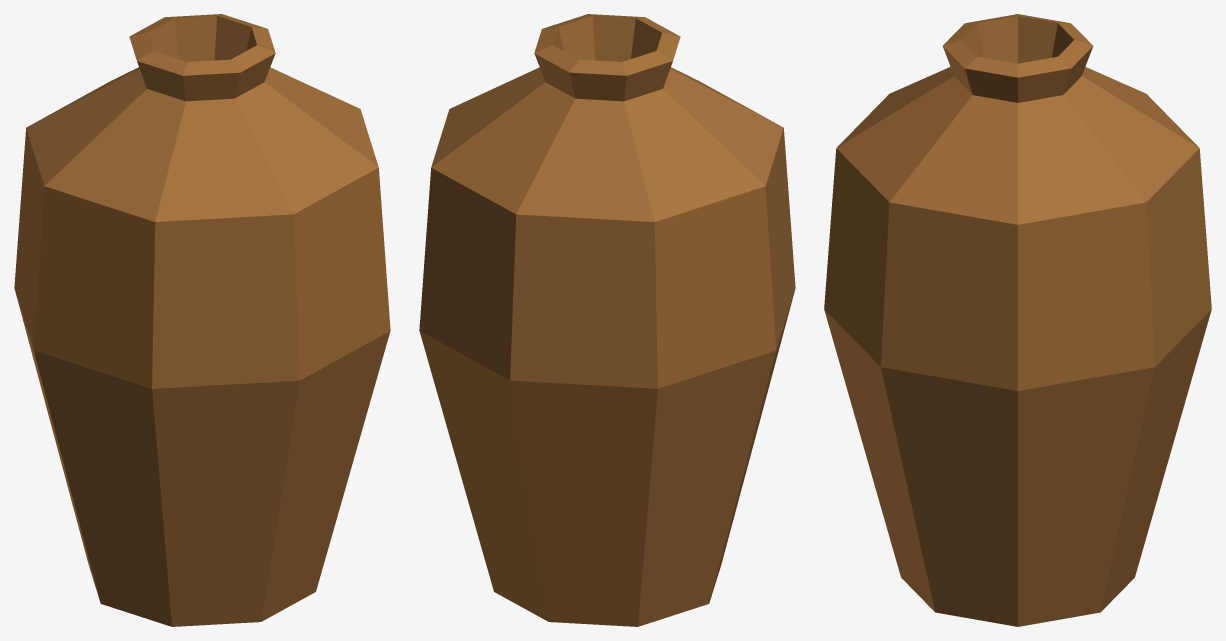
File: Pot_7.fbx
3 renders of one model, left to right at view 1: azimuth 30°, elevation 25°; view 2: azimuth 150°, elevation 25°; view 3: azimuth 270°, elevation 25°, orthographic.
Parts seen in each view (by area): view 1: Pot_7; view 2: Pot_7; view 3: Pot_7.
Boxes of the visible parts, x1,y1,x2,y2 form: Pot_7: (14,14,390,626); Pot_7: (419,14,795,626); Pot_7: (824,14,1211,626).
Bounding box in the file's own units: 31.17 × 47.69 × 31.17.
